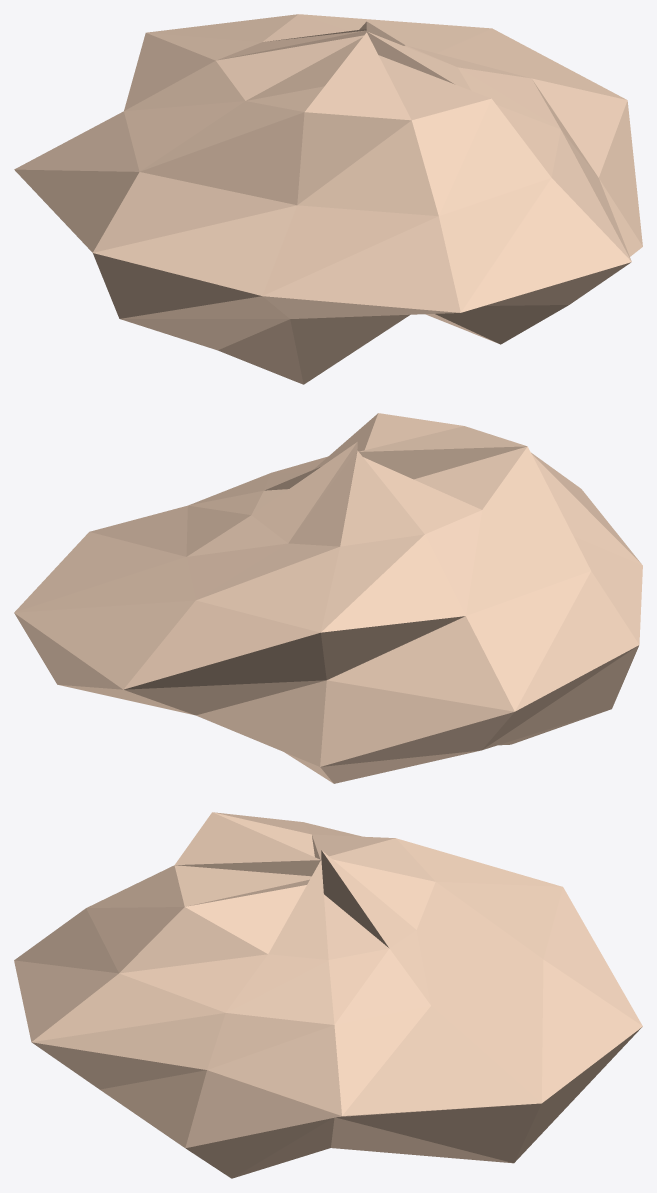
Rendered from rock_090.obj.
3 views of the same model, one above another, from view 1: azimuth 30°, elevation 25°; view 2: azimuth 150°, elevation 25°; view 3: azimuth 270°, elevation 25° (orthographic). The views are drawn at different scales.
Bounding box in the file's own units: 0.6246 × 0.3296 × 0.6554.
